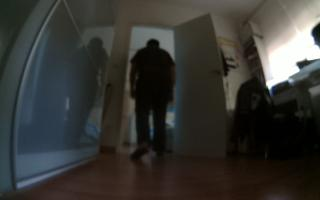person: (126, 34, 180, 164)
